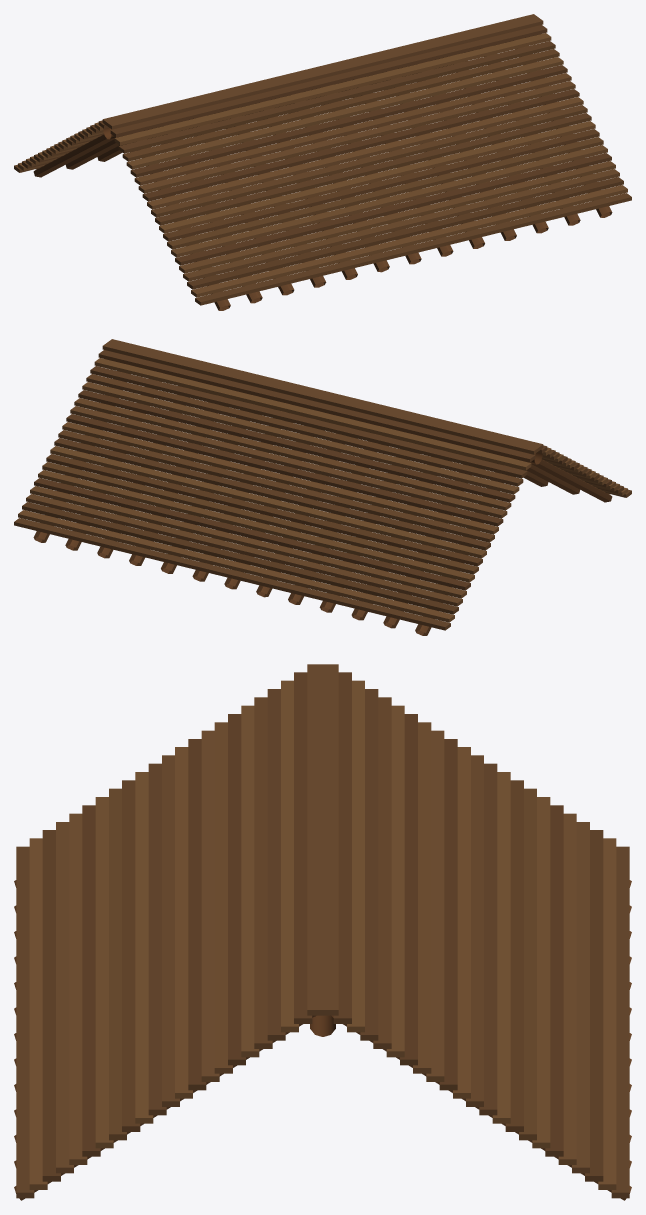
File: Hut_Roof.fbx
3 renders of one model, top to bottom at view 1: azimuth 30°, elevation 25°; view 2: azimuth 150°, elevation 25°; view 3: azimuth 270°, elevation 25°, orthographic. The views are drawn at different scales.
Visible parts, largest first — view 1: Hut_Roof; view 2: Hut_Roof; view 3: Hut_Roof.
Part boxes in pixels (bbox=[...]): Hut_Roof: bbox=[14, 14, 631, 310]; Hut_Roof: bbox=[14, 339, 631, 635]; Hut_Roof: bbox=[14, 664, 631, 1200].
Bounding box in the file's own units: 156 × 44.1 × 118.
